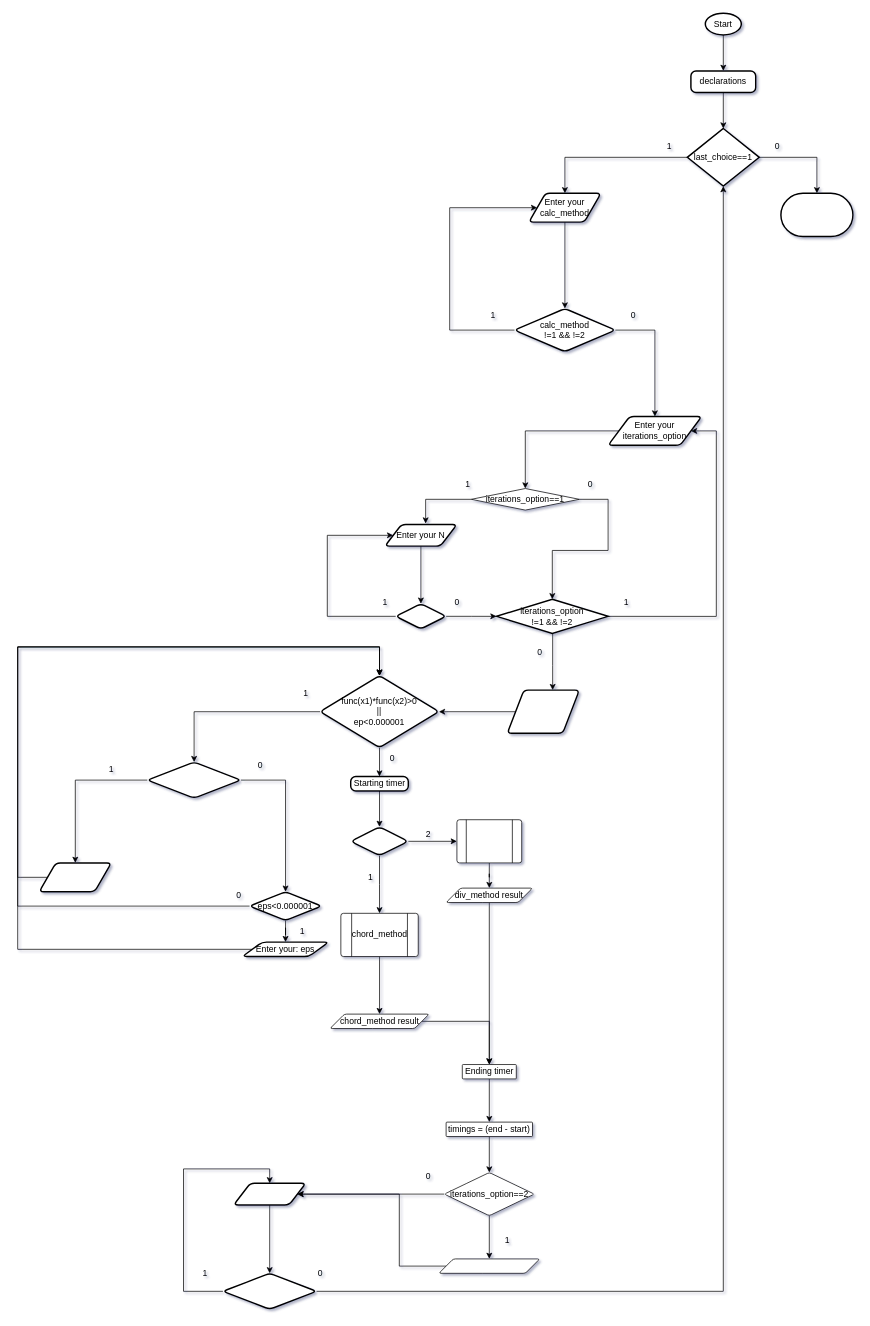
The diagram is 870 pixels wide and 1326 high, and some of its shapes have lost their labels. The centre of each missing label's shape, as x and y in pixels:
"calc_method" goes at point (379, 841).
"div_method" goes at point (489, 841).
"End" goes at point (816, 214).
"Enter your: x1 x2" goes at point (75, 877).
"Enter your: x1 x2 eps" goes at point (543, 711).
"func(x1)*func(x2)>0" goes at point (193, 779).
"last_choice" goes at point (269, 1193).
"last_choice !=1 && !=2" goes at point (269, 1291).
"N<1" goes at point (420, 616).
"Show timings to user" goes at point (489, 1265).
